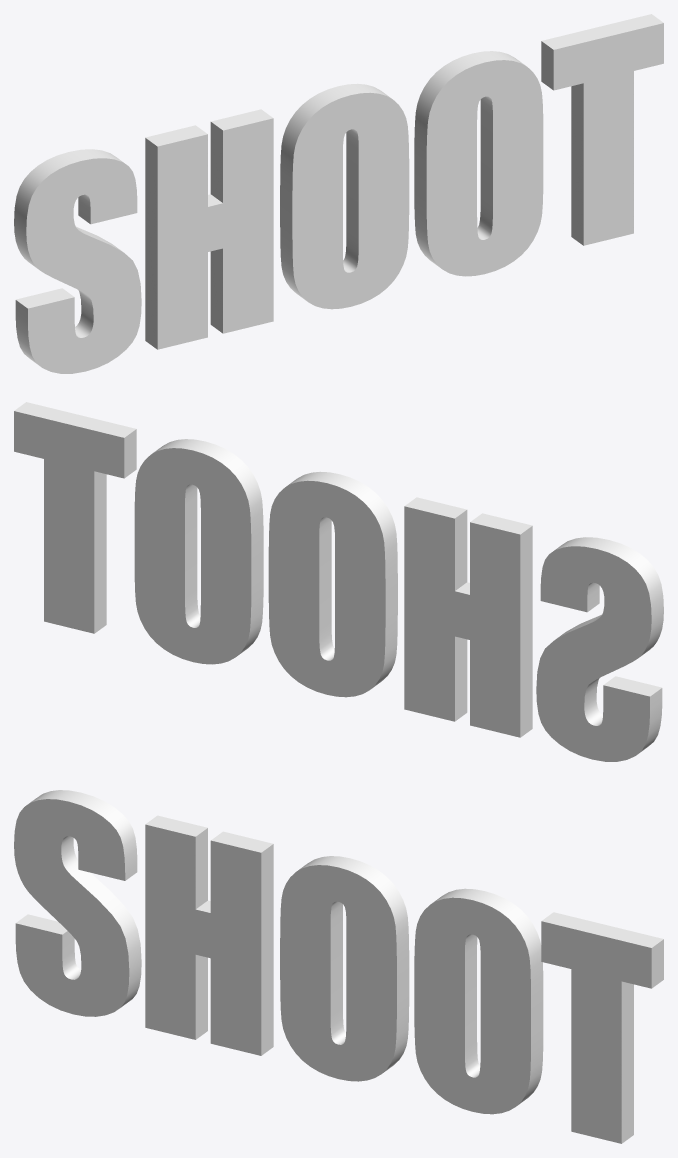
Rendered from Shoot.fbx.
3 views of the same model, one above another, from view 1: azimuth 30°, elevation 25°; view 2: azimuth 150°, elevation 25°; view 3: azimuth 330°, elevation 25° (orthographic).
Visible parts, largest first — view 1: node_id63; view 2: node_id63; view 3: node_id63.
Boxes of the visible parts, x1,y1,x2,y2 form: node_id63: (14, 14, 663, 373); node_id63: (14, 402, 663, 761); node_id63: (14, 790, 663, 1143).
Size of the model in its own units: 66.46 by 21.09 by 2.22.
1 material, 1 textured.
